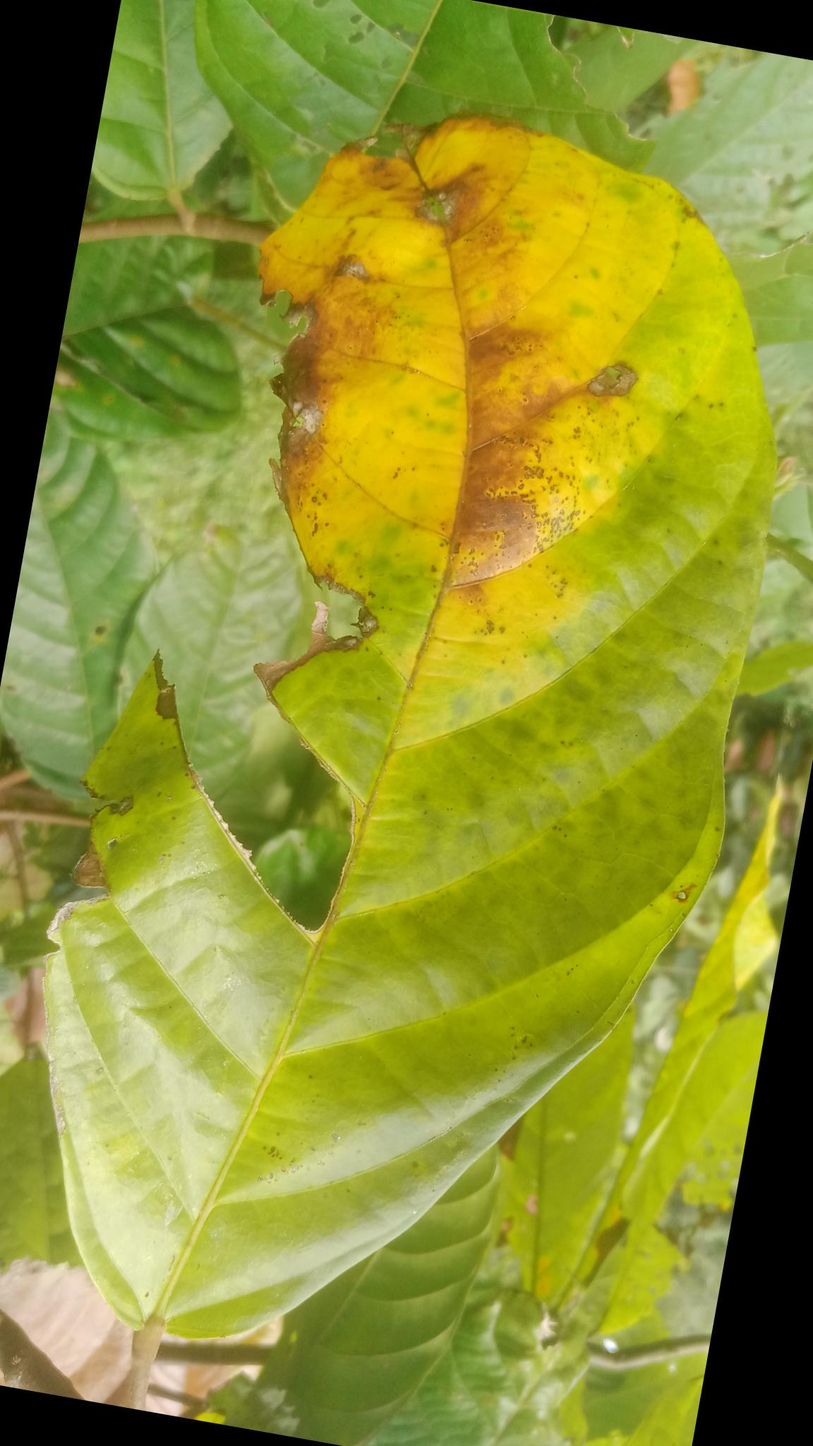Fosforo: (42, 120, 768, 1337)
